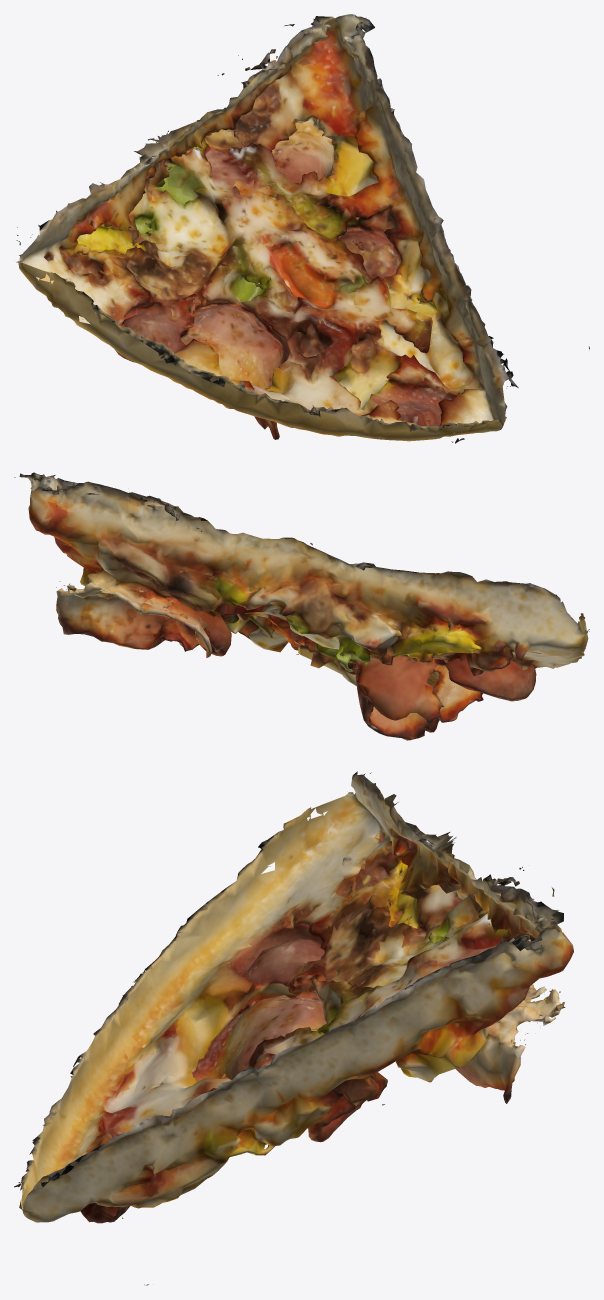
Rendered from pizza_15283.obj.
3 views of the same model, one above another, from view 1: azimuth 30°, elevation 25°; view 2: azimuth 150°, elevation 25°; view 3: azimuth 270°, elevation 25° (orthographic). The views are drawn at different scales.
Size of the model in its own units: 1.61 by 0.8467 by 1.27.
1 material, 1 textured.
